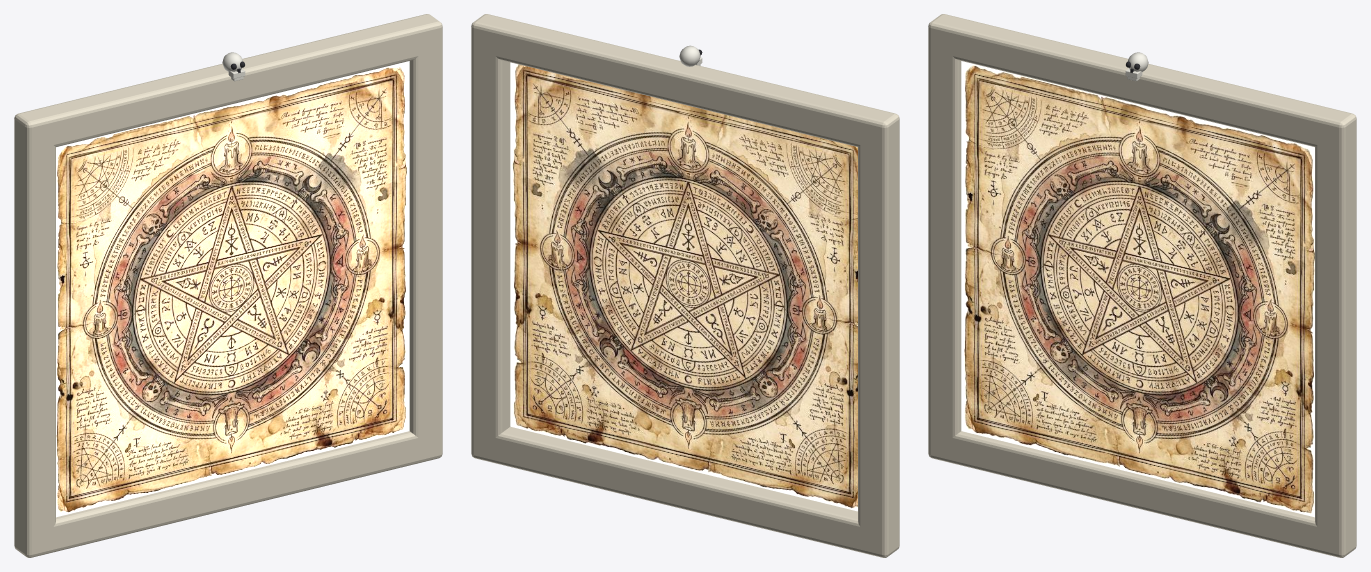
The model's file is art_ritual_circle_top.glb.
3 renders of one model, left to right at view 1: azimuth 30°, elevation 25°; view 2: azimuth 150°, elevation 25°; view 3: azimuth 330°, elevation 25°, orthographic.
Parts seen in each view (by area): view 1: GD_art_ritual_circle_top__m0, GD_art_ritual_circle_top__m1; view 2: GD_art_ritual_circle_top__m0, GD_art_ritual_circle_top__m1; view 3: GD_art_ritual_circle_top__m0, GD_art_ritual_circle_top__m1.
Part boxes in pixels (box(x1,y1,x2,y2)): GD_art_ritual_circle_top__m0: box(56, 61, 409, 517); GD_art_ritual_circle_top__m1: box(14, 14, 442, 557); GD_art_ritual_circle_top__m0: box(510, 62, 857, 511); GD_art_ritual_circle_top__m1: box(471, 14, 899, 557); GD_art_ritual_circle_top__m0: box(961, 61, 1314, 517); GD_art_ritual_circle_top__m1: box(928, 14, 1356, 557).
Size of the model in its own units: 0.96 by 0.9988 by 0.0744.
Materials: 4 (1 with a texture image).
